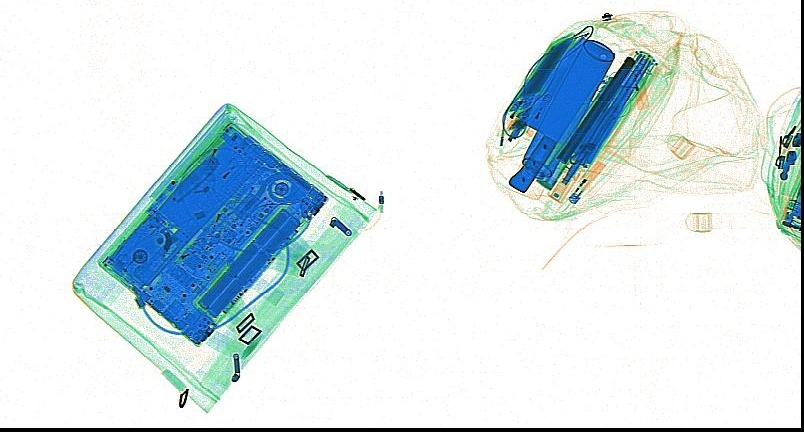knife: (132, 132, 265, 286), (507, 36, 614, 193), (172, 155, 219, 201)
lighter: (567, 160, 605, 202)
pressure: (519, 39, 614, 181)
